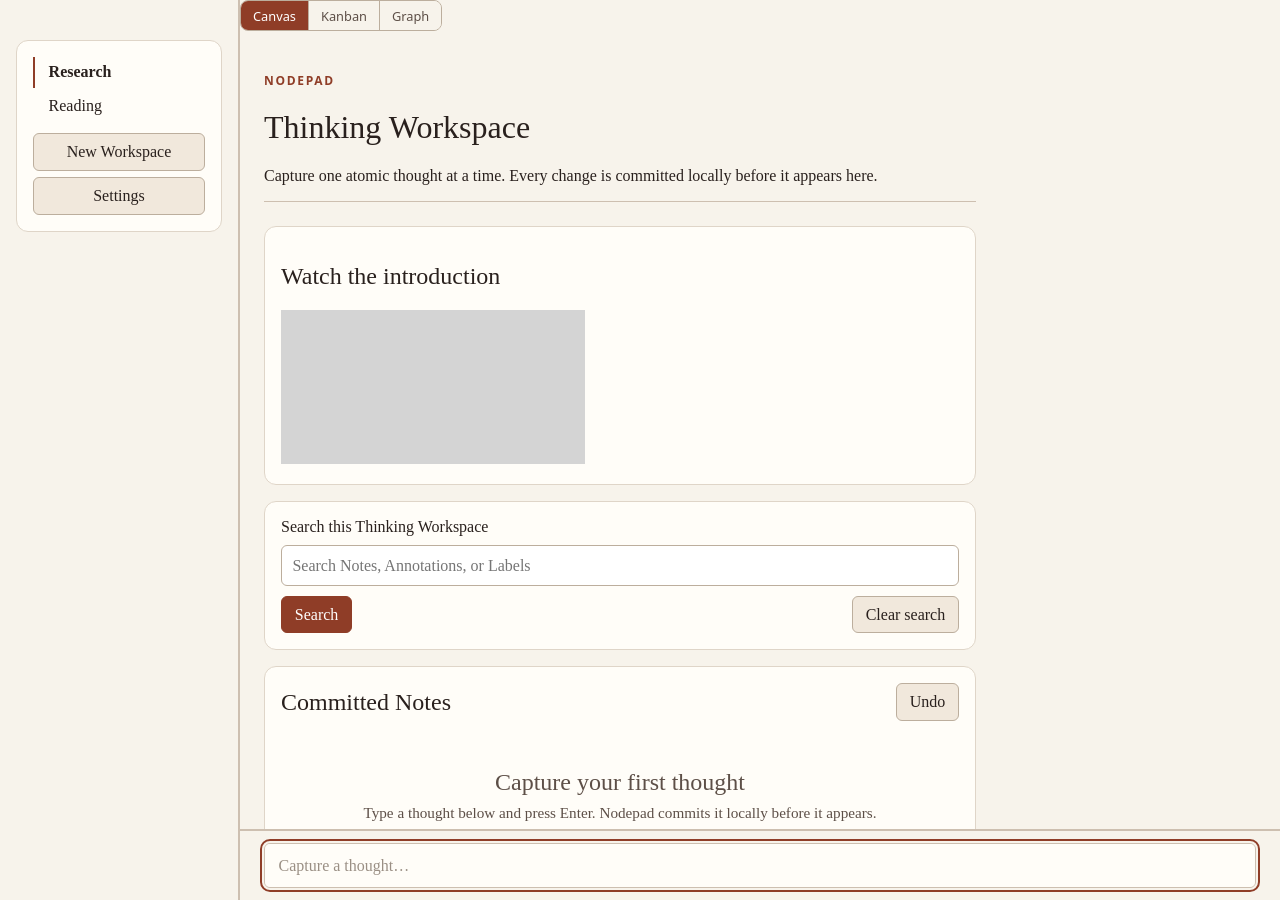
Assistance Policy and local Ollama discovery › starts with Manual assistance policy
Click the button with aria-label "Workspace settings" at point(119, 196), box x1=33 y1=177 x2=205 y2=214
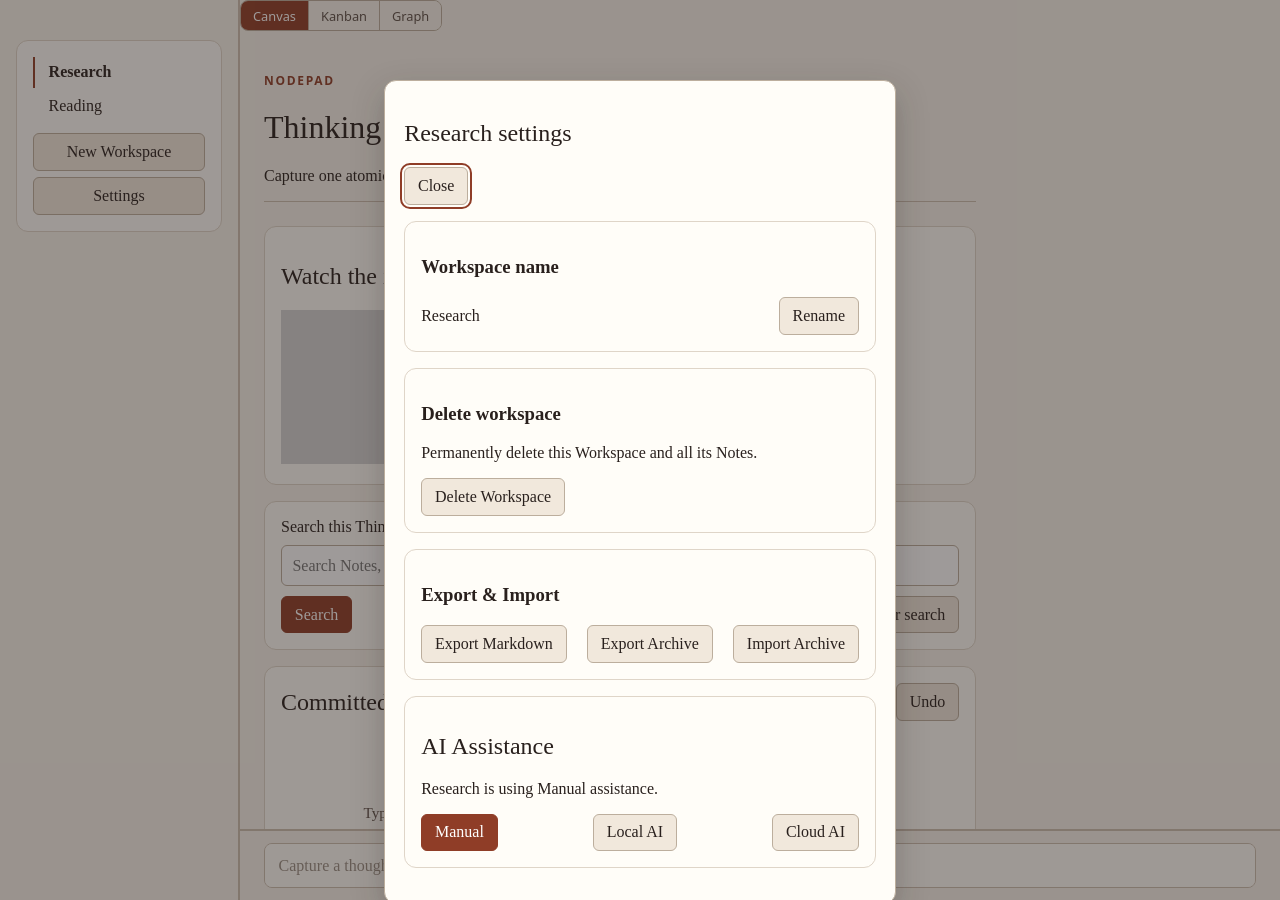
Result: the text "Research is using Manual assistance." is shown at x1=421 y1=780 x2=658 y2=796
